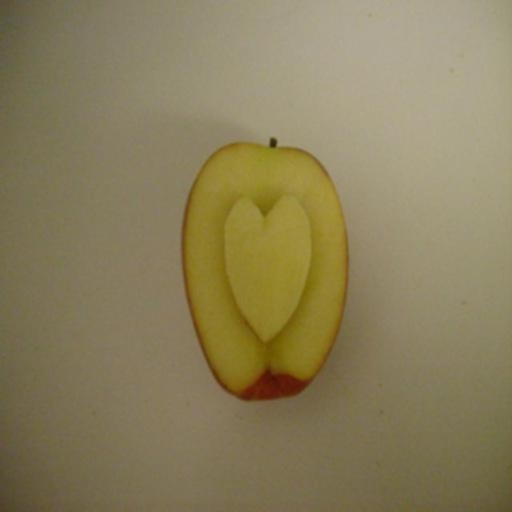fruit: (257, 136, 433, 475)
